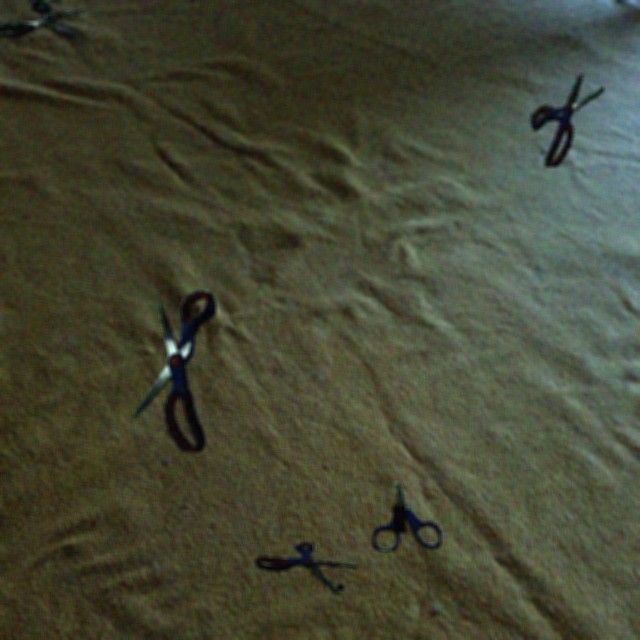scissors: (133, 290, 216, 452), (530, 74, 604, 167), (255, 542, 357, 596), (373, 482, 441, 551), (0, 0, 83, 37)
